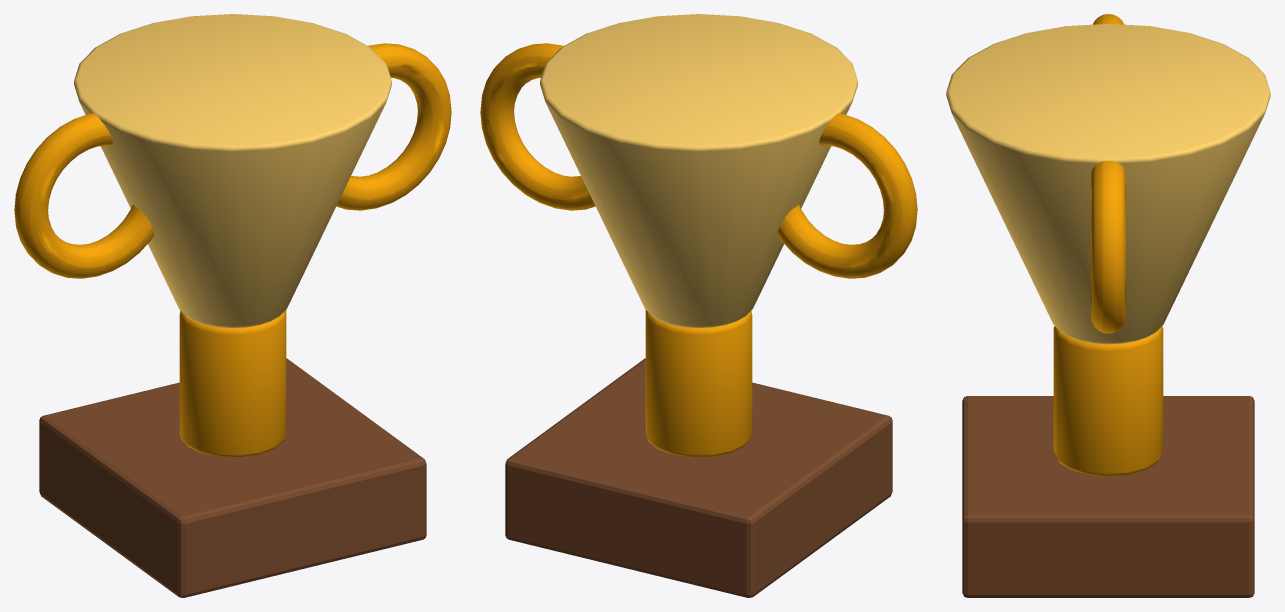
Rendered from trophy.glb.
3 views of the same model, side by side, from view 1: azimuth 30°, elevation 25°; view 2: azimuth 150°, elevation 25°; view 3: azimuth 270°, elevation 25° (orthographic). The views are drawn at different scales.
Parts seen in each view (by area): view 1: trophy; view 2: trophy; view 3: trophy.
Part boxes in pixels (<box>): trophy: <box>14,14,451,597</box>; trophy: <box>480,14,917,597</box>; trophy: <box>946,14,1270,597</box>.
Bounding box in the file's own units: 0.2789 × 0.27 × 0.1776.
